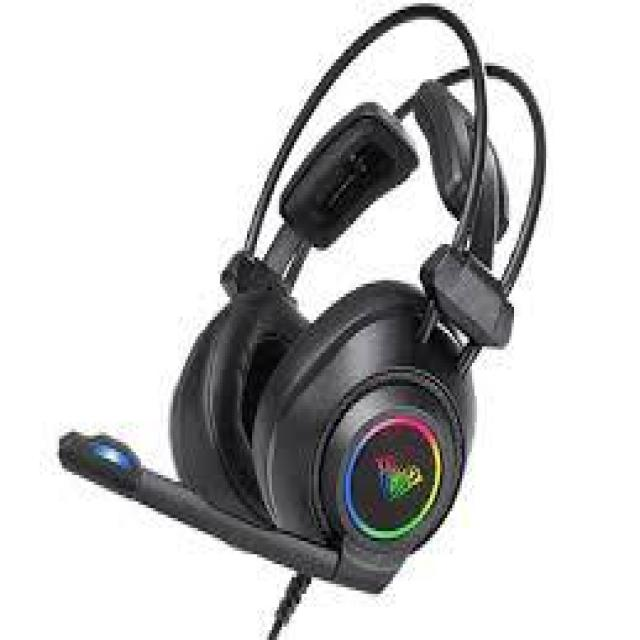headset: (230, 18, 531, 569)
